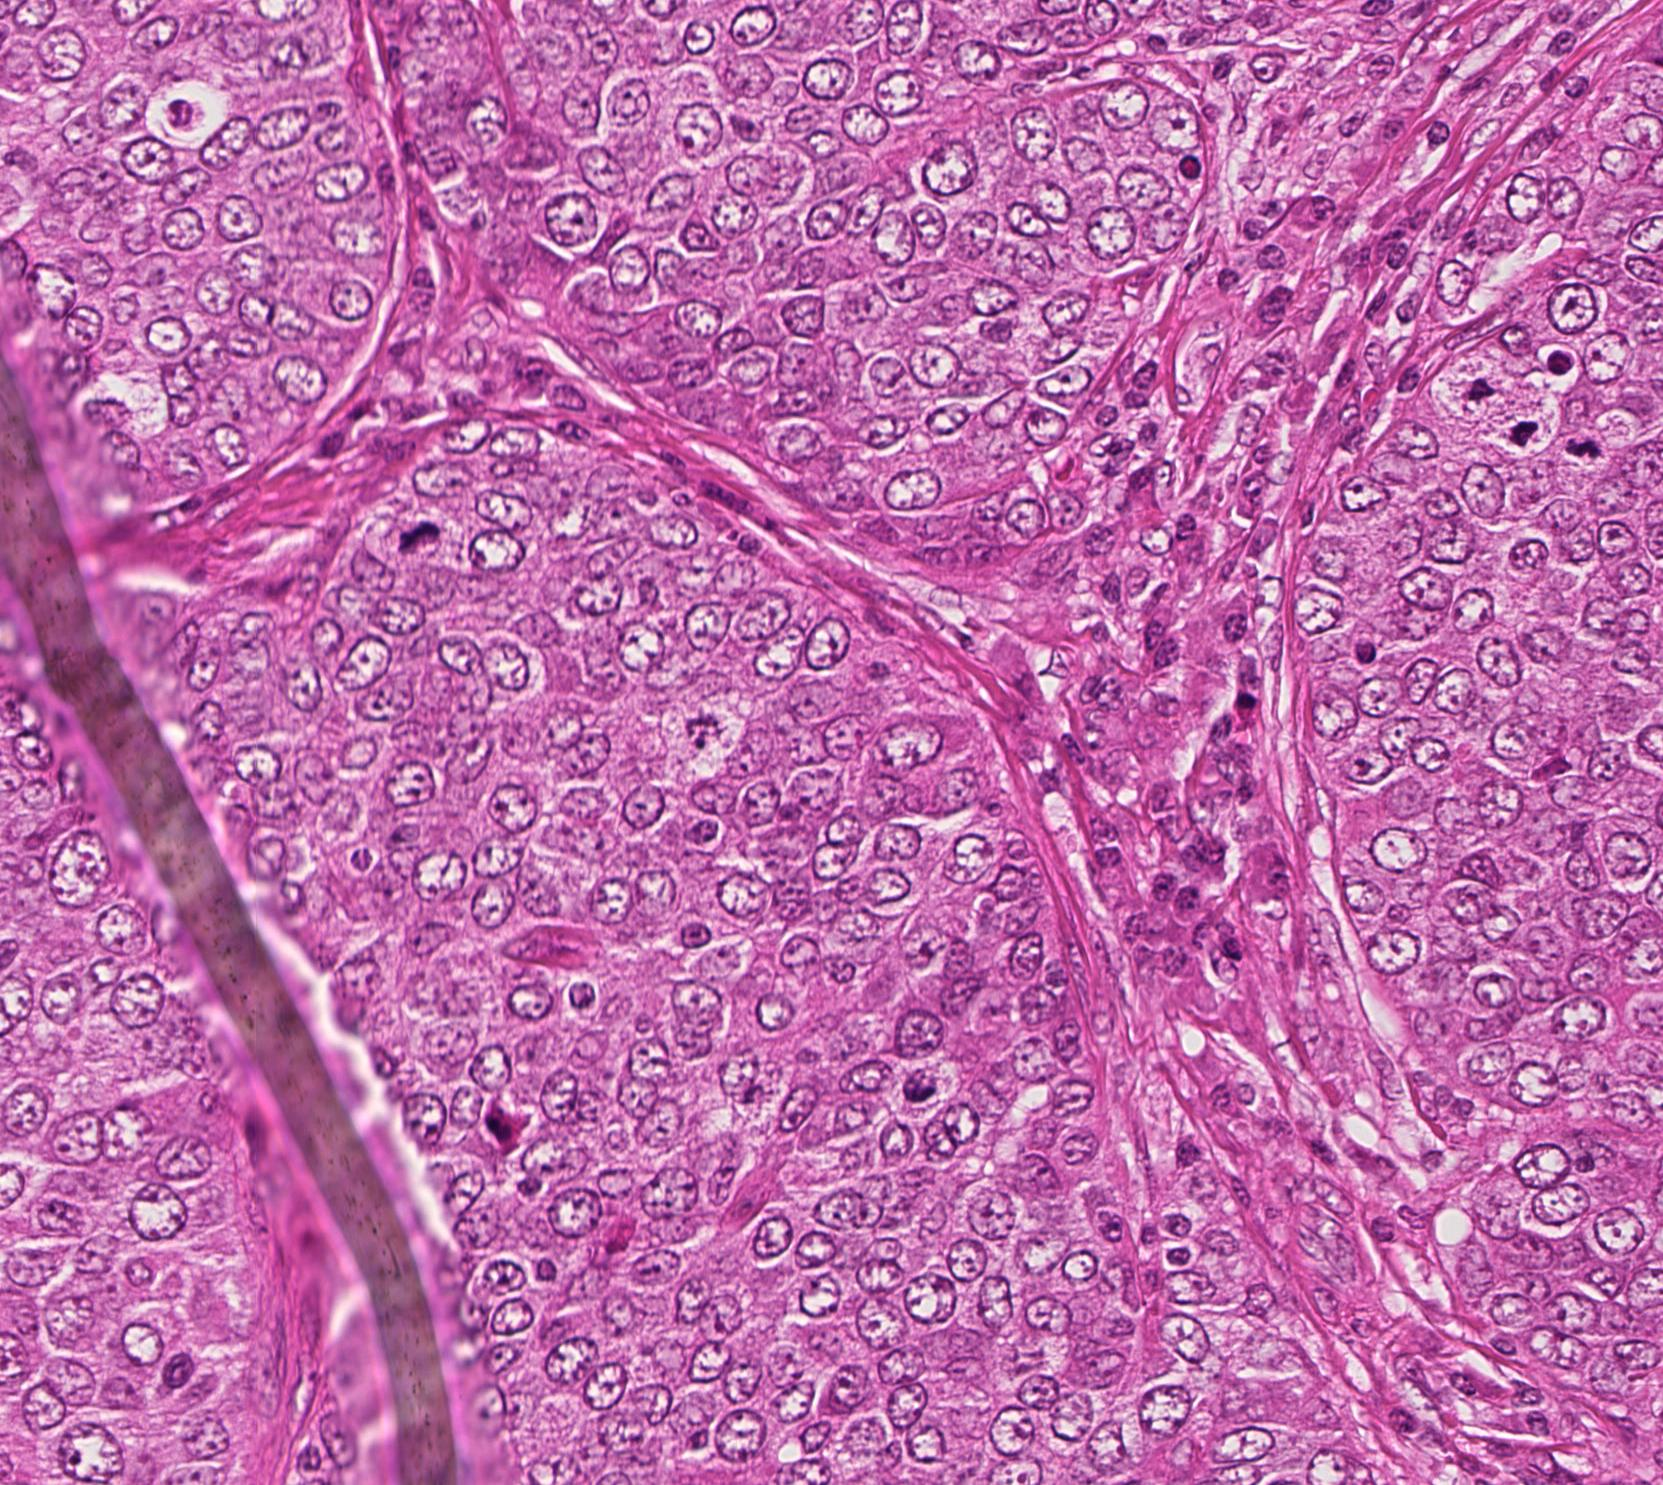mitosis: (1555, 420, 1616, 480), (670, 697, 730, 755), (394, 505, 454, 563)
